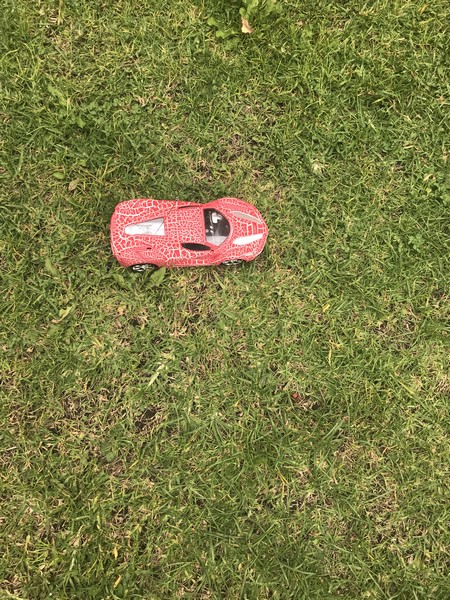RC: (109, 196, 269, 273)
